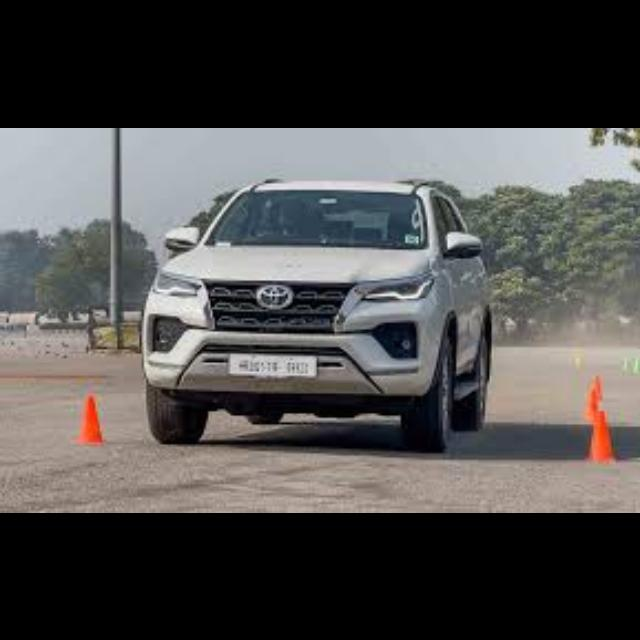number-plate: (228, 351, 317, 375)
vehicles: (135, 174, 487, 449)
